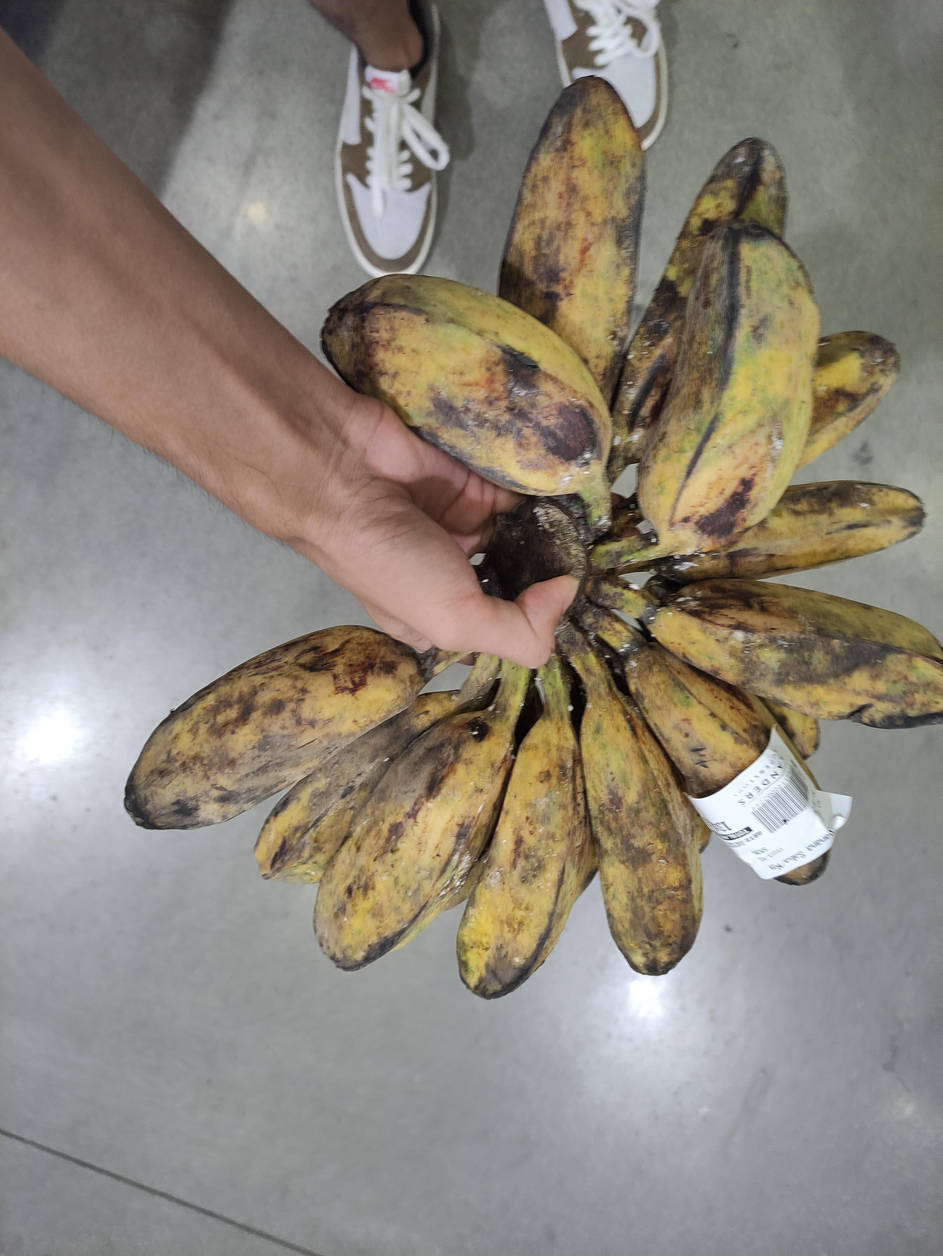underripe: (125, 78, 943, 998)
